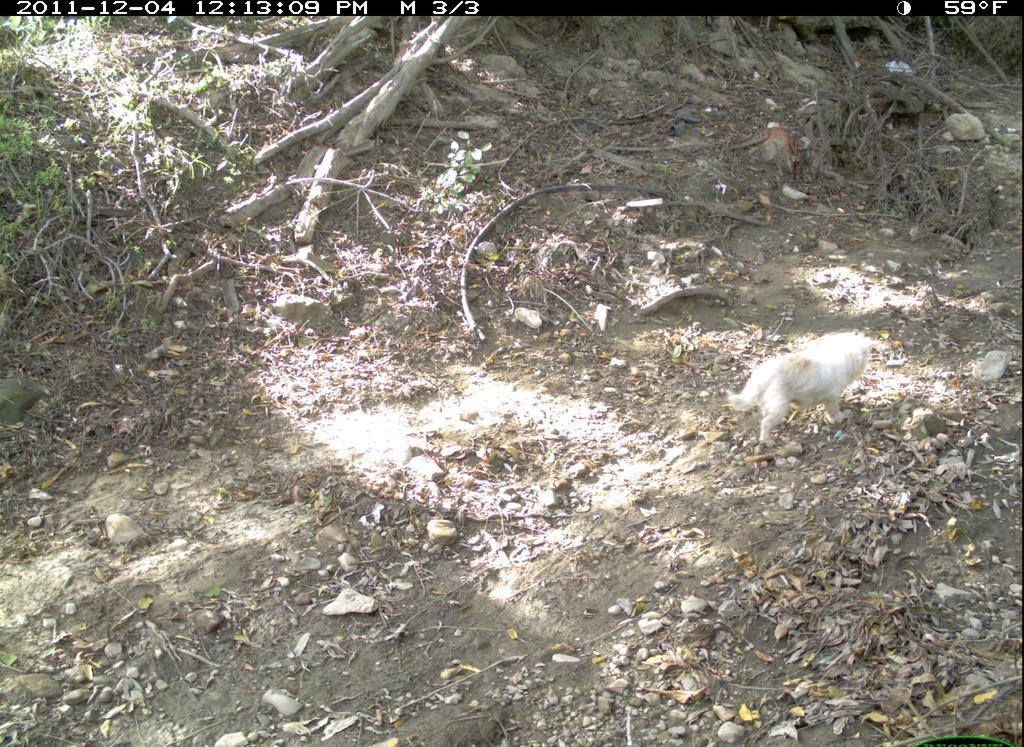dog: (720, 322, 893, 451)
